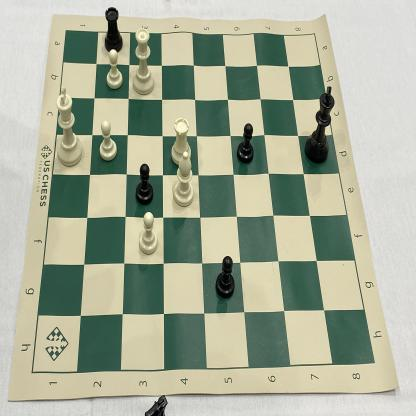black-king: (304, 80, 338, 168)
black-pawn: (214, 250, 238, 304), (132, 158, 156, 207), (234, 121, 258, 167)
black-rook: (100, 2, 127, 55)
white-bishop: (170, 150, 197, 209)
white-king: (52, 84, 87, 169)
white-pawn: (134, 210, 162, 257), (95, 117, 120, 165), (104, 47, 126, 94)
white-queen: (130, 23, 158, 99)
white-rook: (168, 110, 195, 167)
